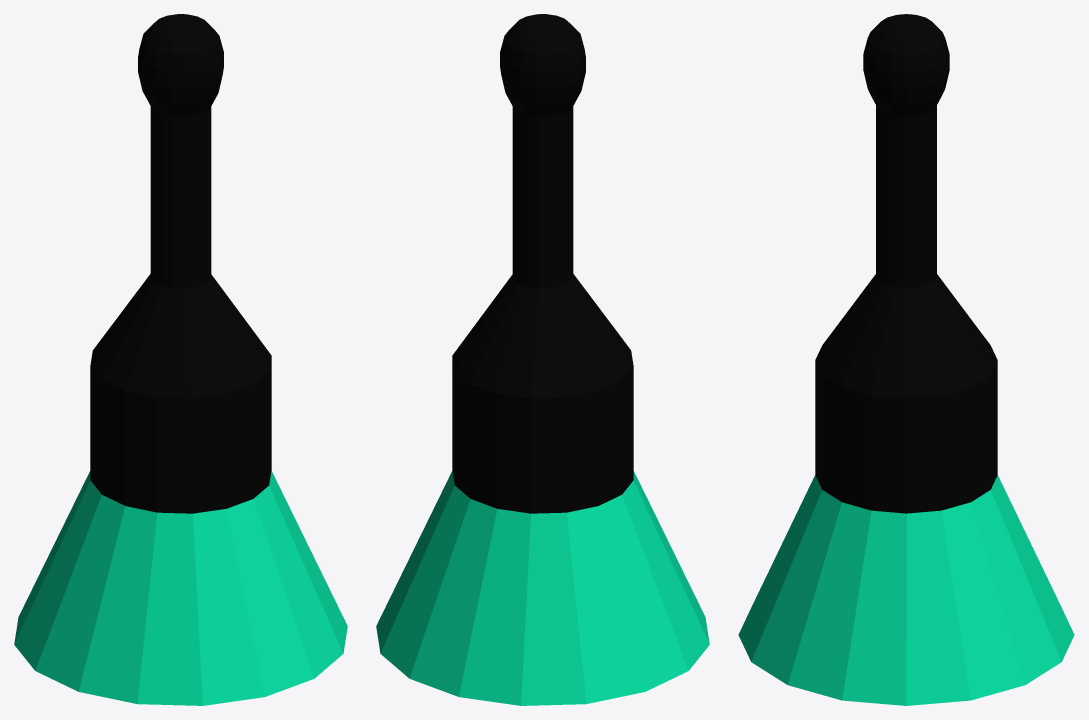
Rendered from nauAlt.fbx.
3 renders of one model, left to right at view 1: azimuth 30°, elevation 25°; view 2: azimuth 150°, elevation 25°; view 3: azimuth 270°, elevation 25°, orthographic.
Visible parts, largest first — view 1: Cylinder.005; view 2: Cylinder.005; view 3: Cylinder.005.
Boxes of the visible parts, <box> form: Cylinder.005: <box>14,14,347,705</box>; Cylinder.005: <box>376,14,709,705</box>; Cylinder.005: <box>738,14,1074,705</box>.
Bounding box in the file's own units: 74.77 × 151 × 74.77.
